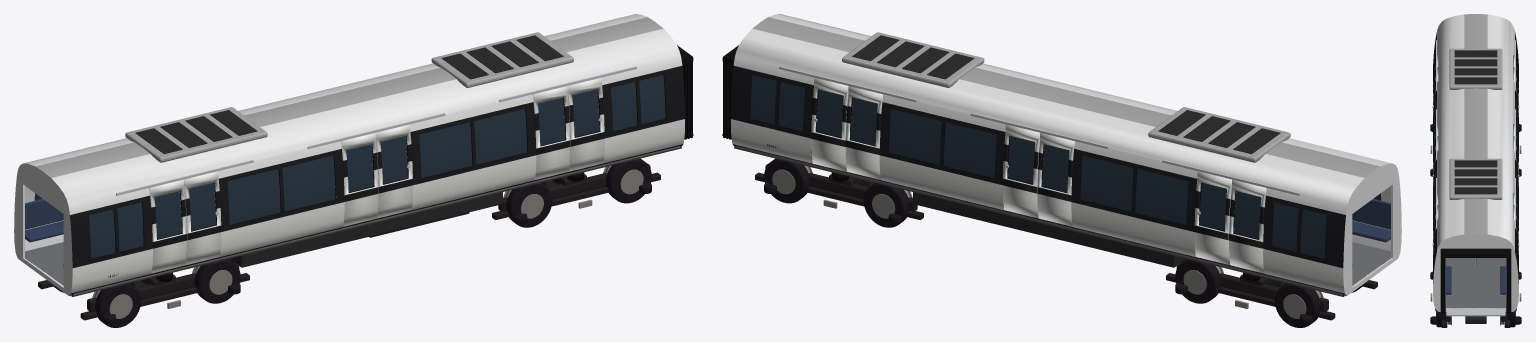
File: mp05_car.glb
The picture shows the model from 3 angles, left to right: view 1: azimuth 30°, elevation 25°; view 2: azimuth 150°, elevation 25°; view 3: azimuth 270°, elevation 25°; orthographic projection. The views are drawn at different scales.
Visible parts, largest first — view 1: mp05_car_neutral; view 2: mp05_car_neutral; view 3: mp05_car_neutral.
Boxes of the visible parts, <box> form: mp05_car_neutral: <box>14,14,693,327</box>; mp05_car_neutral: <box>722,14,1401,327</box>; mp05_car_neutral: <box>1430,14,1521,327</box>.
Size of the model in its own units: 15.2 by 3.49 by 2.6.
Materials: 5 (3 with a texture image).
